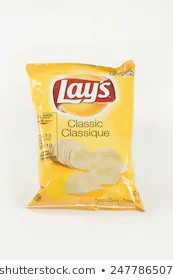lays-med: (29, 54, 140, 211)
